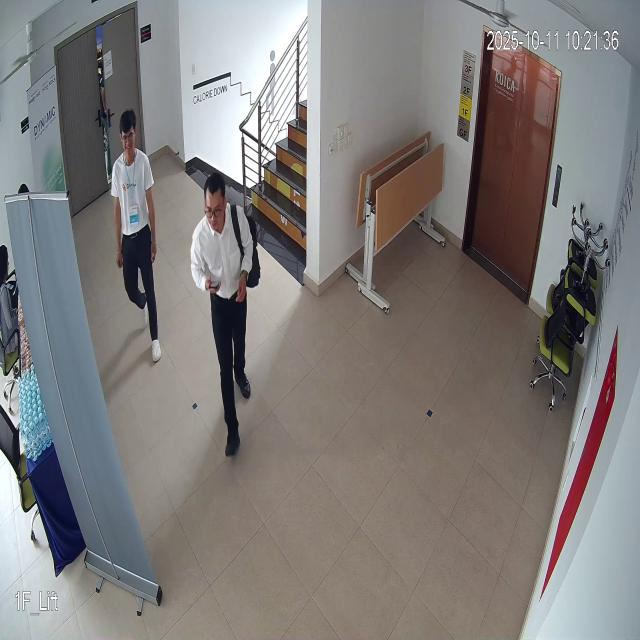face: (197, 172, 230, 238), (117, 108, 140, 159)
